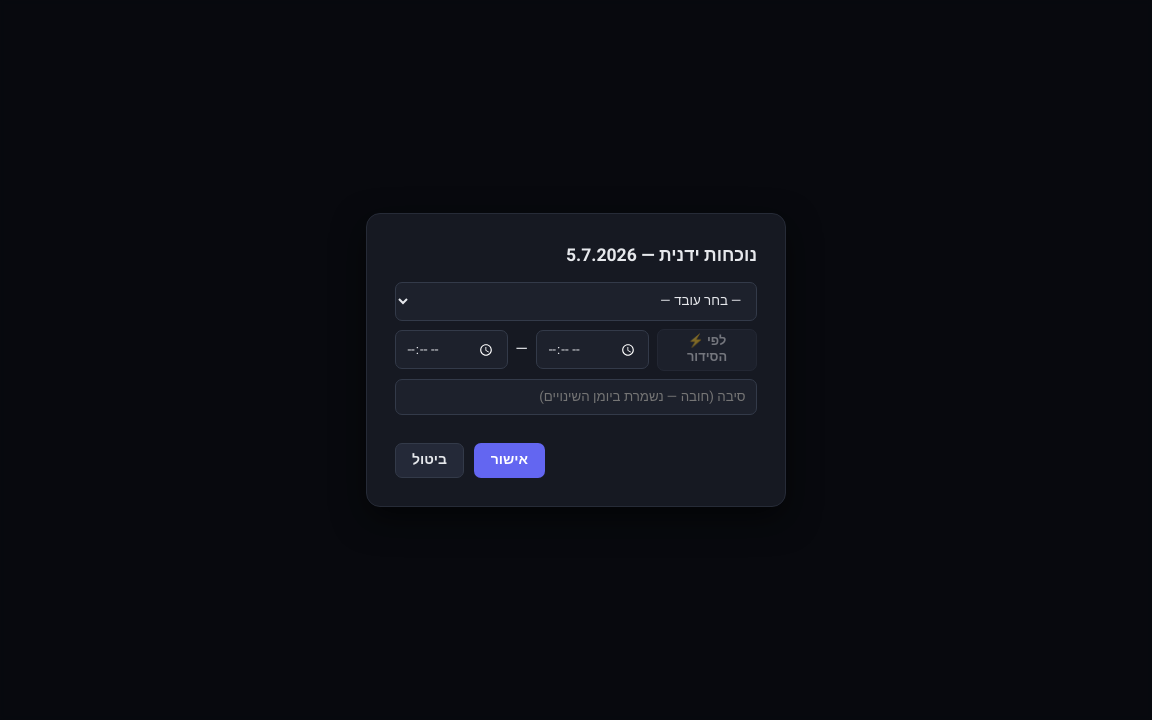
Test case: ManualEntryDialog › "לפי הסידור" prefills the planned window
Select "📵 בלי טלגרם" in the dropdown named "עובד" at (576, 301), box [395,282,757,321]
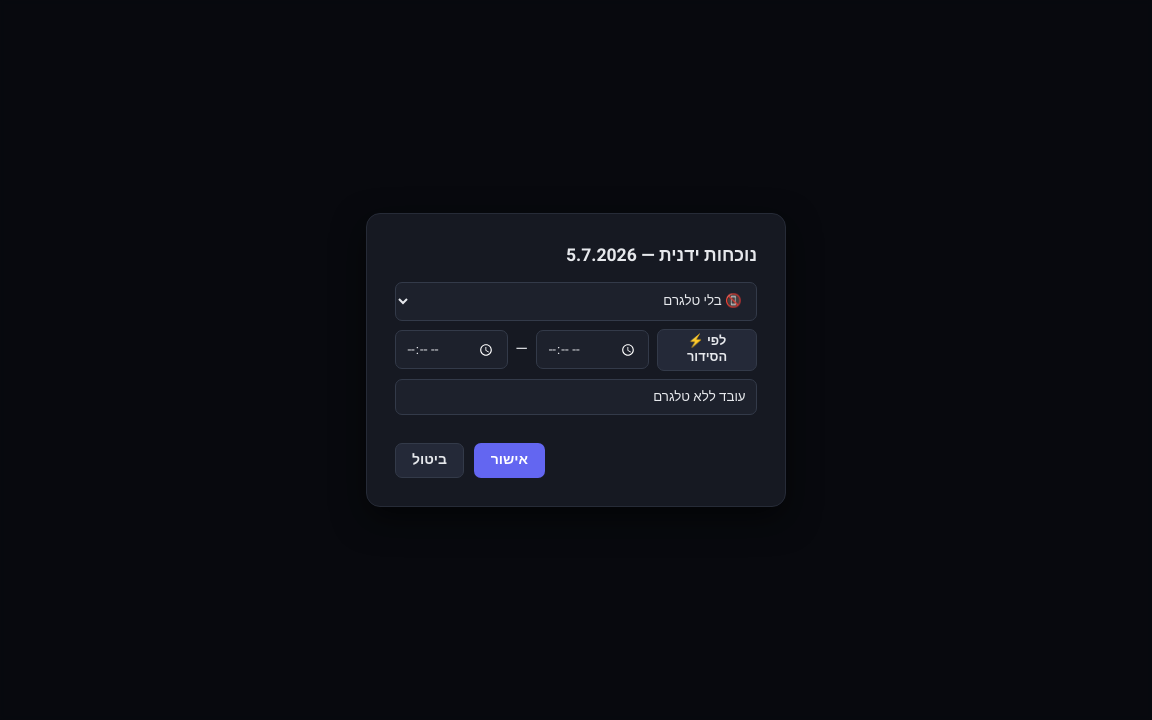
Click the button "⚡ לפי הסידור" at (707, 350), box [657,328,757,371]
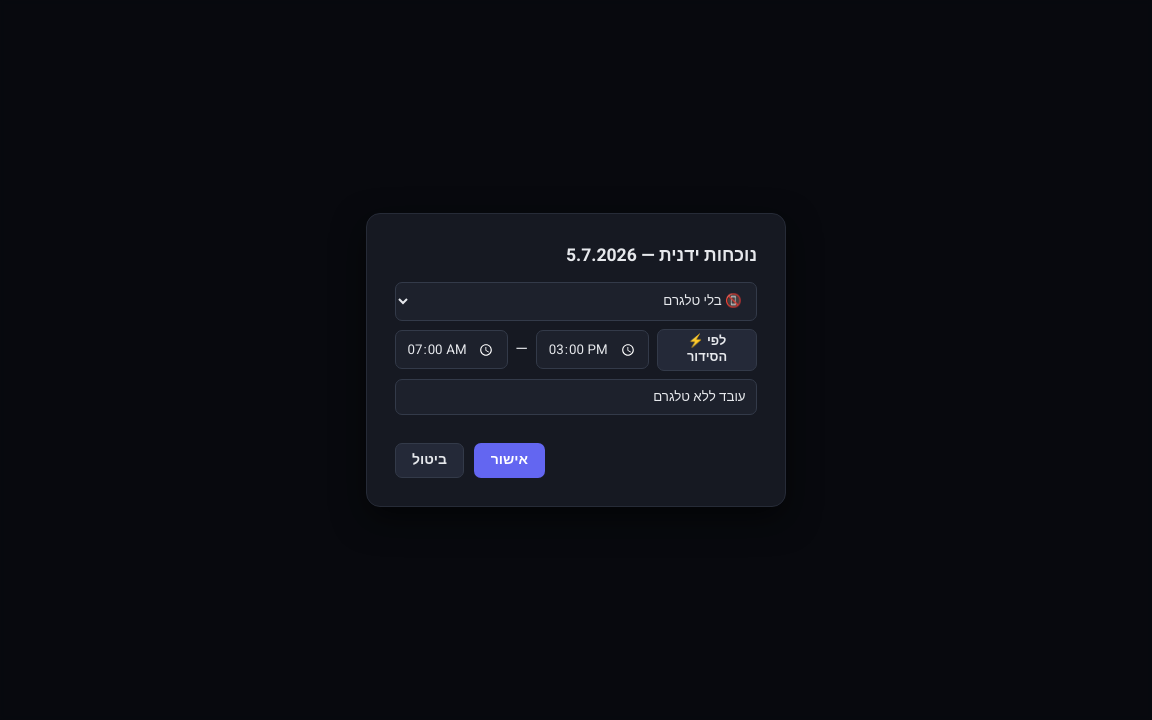
Now the time field named "שעת כניסה" holds "07:00", box [395,330,508,369]
Now the time field named "שעת יציאה" holds "15:00", box [536,330,649,369]
